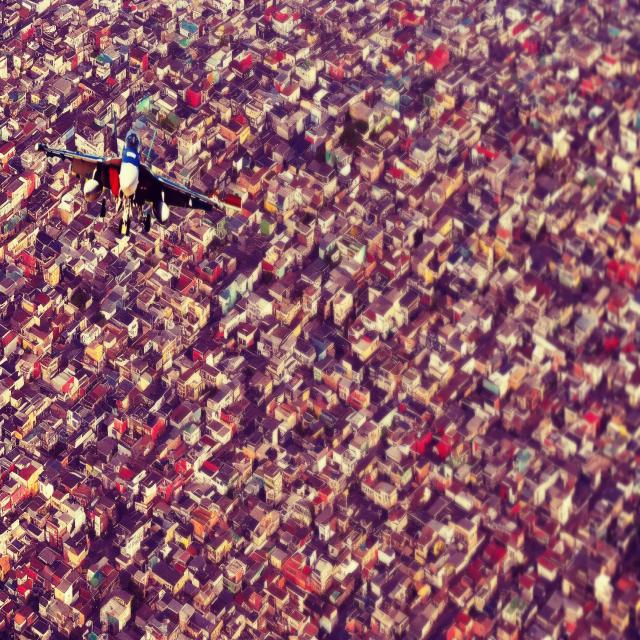airplane: (34, 121, 226, 236)
